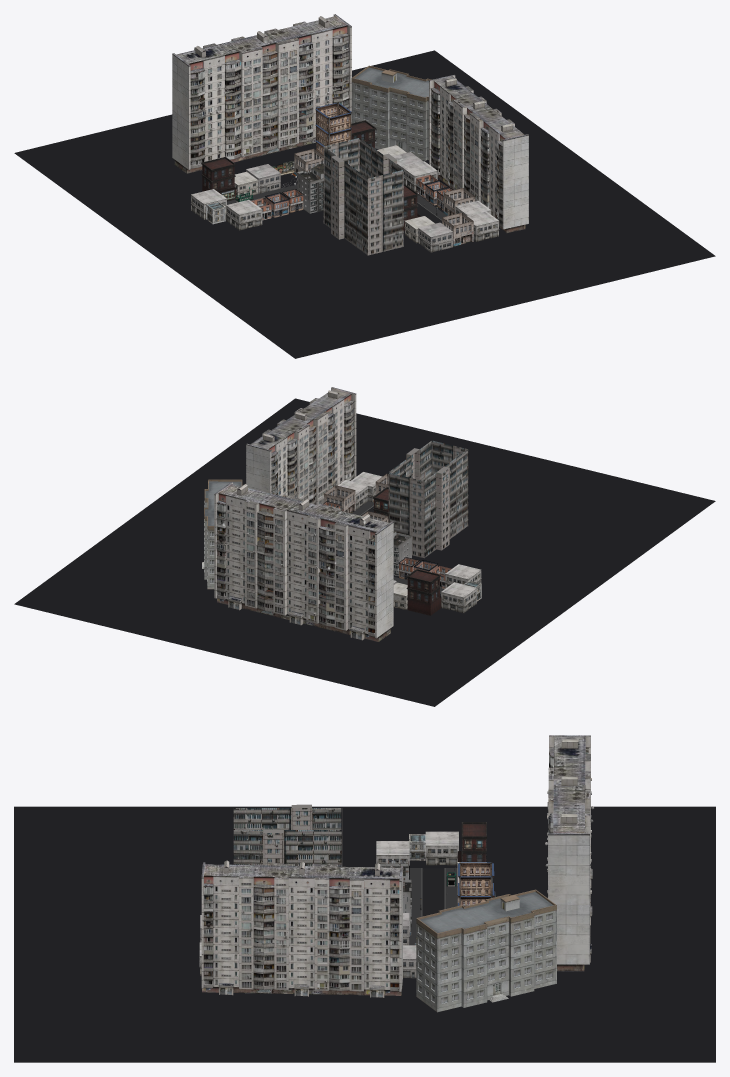
File: street.glb
3 views of the same model, one above another, from view 1: azimuth 30°, elevation 25°; view 2: azimuth 150°, elevation 25°; view 3: azimuth 270°, elevation 25° (orthographic). The views are drawn at different scales.
Parts seen in each view (by area): view 1: LT_GroundFill, 12stbuilding1_LOD0, 12stbuilding1_LOD1_12storeybuilding1_0.001, Cube.019_Material.010_0, BUILDING_lambert1_0.001, Plane.019_Material.002_0.001, Building 1.004_S4, Abandoned Concrete Industrial Building_Start2, Cube_Material.003_0_N5, zgrada_base_uv_main_building, Building 1.004_Start3, Abandoned Concrete Industrial Building_N3 (+2 smaller); view 2: LT_GroundFill, 12stbuilding1_LOD0, 12stbuilding1_LOD1_12storeybuilding1_0.001, Cube.019_Material.010_0, BUILDING_lambert1_0.001, Cube_Material.004_0_N5, Building 1.004_End1, Building 1.004_S4; view 3: LT_GroundFill, 12stbuilding1_LOD1_12storeybuilding1_0.001, BUILDING_lambert1_0.001, 12stbuilding1_LOD0, Cube.019_Material.010_0, Plane.019_Material.002_0.001, Building 1.004_End1, LT_Road, LT_Sidewalk_S, Building 1.004_S4, Cube_Material.005_0_N5.
Part boxes in pixels (left/top/right/bottom): LT_GroundFill: left=14, top=50, right=715, bottom=358; 12stbuilding1_LOD0: left=172, top=14, right=351, bottom=173; 12stbuilding1_LOD1_12storeybuilding1_0.001: left=429, top=75, right=528, bottom=232; Cube.019_Material.010_0: left=323, top=138, right=403, bottom=255; BUILDING_lambert1_0.001: left=351, top=65, right=431, bottom=160; Plane.019_Material.002_0.001: left=315, top=102, right=351, bottom=134; Building 1.004_S4: left=226, top=199, right=262, bottom=230; Abandoned Concrete Industrial Building_Start2: left=418, top=222, right=453, bottom=252; Cube_Material.003_0_N5: left=203, top=157, right=236, bottom=201; zgrada_base_uv_main_building: left=296, top=161, right=323, bottom=213; Building 1.004_Start3: left=467, top=211, right=499, bottom=241; Abandoned Concrete Industrial Building_N3: left=246, top=164, right=280, bottom=193; LT_GroundFill: left=14, top=398, right=715, bottom=706; 12stbuilding1_LOD0: left=214, top=482, right=393, bottom=641; 12stbuilding1_LOD1_12storeybuilding1_0.001: left=246, top=387, right=356, bottom=504; Cube.019_Material.010_0: left=388, top=440, right=468, bottom=558; BUILDING_lambert1_0.001: left=202, top=479, right=242, bottom=589; Cube_Material.004_0_N5: left=406, top=569, right=439, bottom=615; Building 1.004_End1: left=441, top=582, right=477, bottom=613; Building 1.004_S4: left=445, top=564, right=481, bottom=588; LT_GroundFill: left=14, top=806, right=715, bottom=1062; 12stbuilding1_LOD1_12storeybuilding1_0.001: left=201, top=860, right=402, bottom=997; BUILDING_lambert1_0.001: left=416, top=889, right=556, bottom=1012; 12stbuilding1_LOD0: left=545, top=735, right=593, bottom=971; Cube.019_Material.010_0: left=233, top=804, right=342, bottom=866; Plane.019_Material.002_0.001: left=457, top=862, right=494, bottom=897; Building 1.004_End1: left=425, top=831, right=458, bottom=865; LT_Road: left=422, top=868, right=444, bottom=916; LT_Sidewalk_S: left=409, top=868, right=421, bottom=945; Building 1.004_S4: left=376, top=841, right=409, bottom=865; Cube_Material.005_0_N5: left=461, top=822, right=486, bottom=861.
Size of what is drawn, in the model's own units: 190 by 55.53 by 220.
56 materials, 49 textured.
